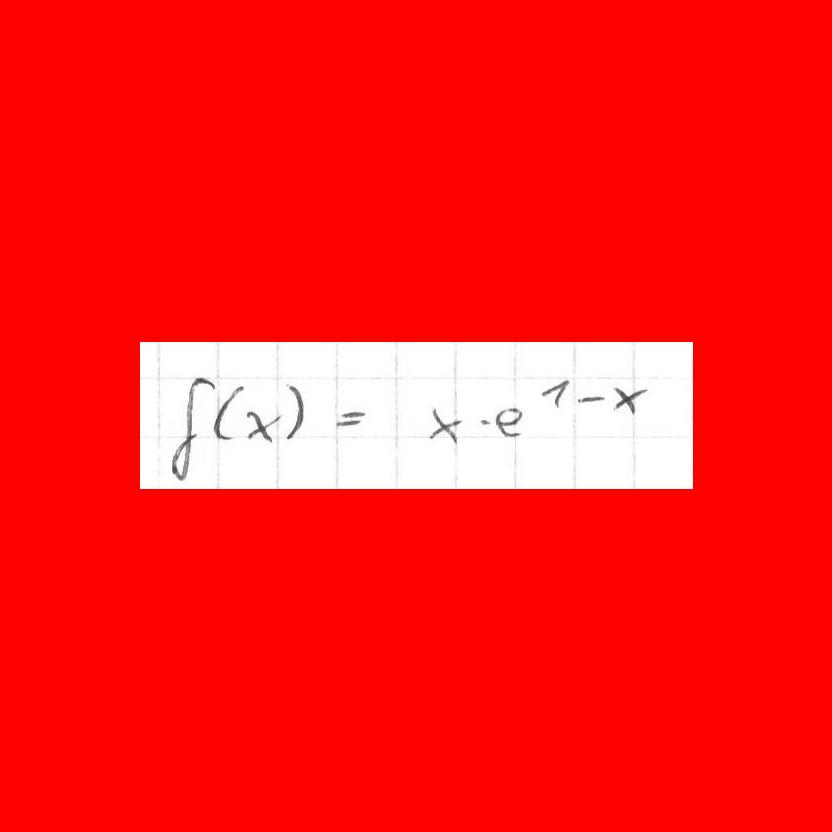Char: (166, 375, 211, 479), (212, 383, 245, 439), (282, 380, 305, 443), (610, 382, 650, 416), (427, 404, 460, 445), (245, 406, 278, 443), (538, 376, 569, 411), (494, 405, 523, 438), (333, 405, 365, 428), (574, 391, 604, 407), (475, 413, 492, 430)
